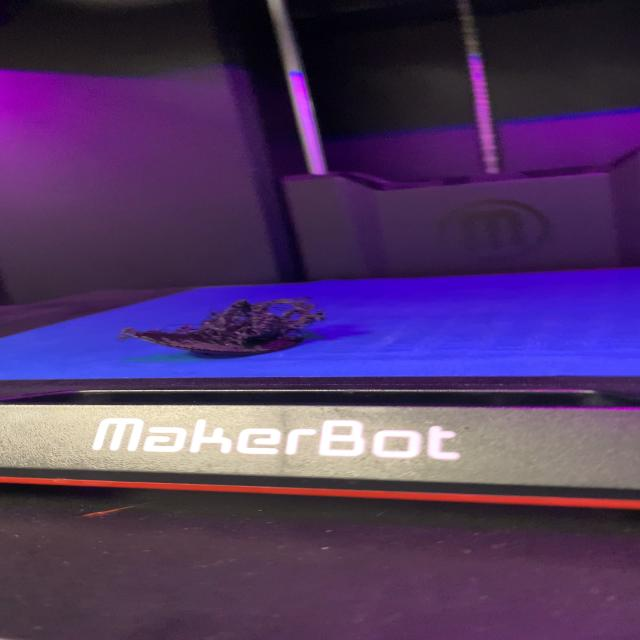spaghetti: (117, 295, 326, 358)
